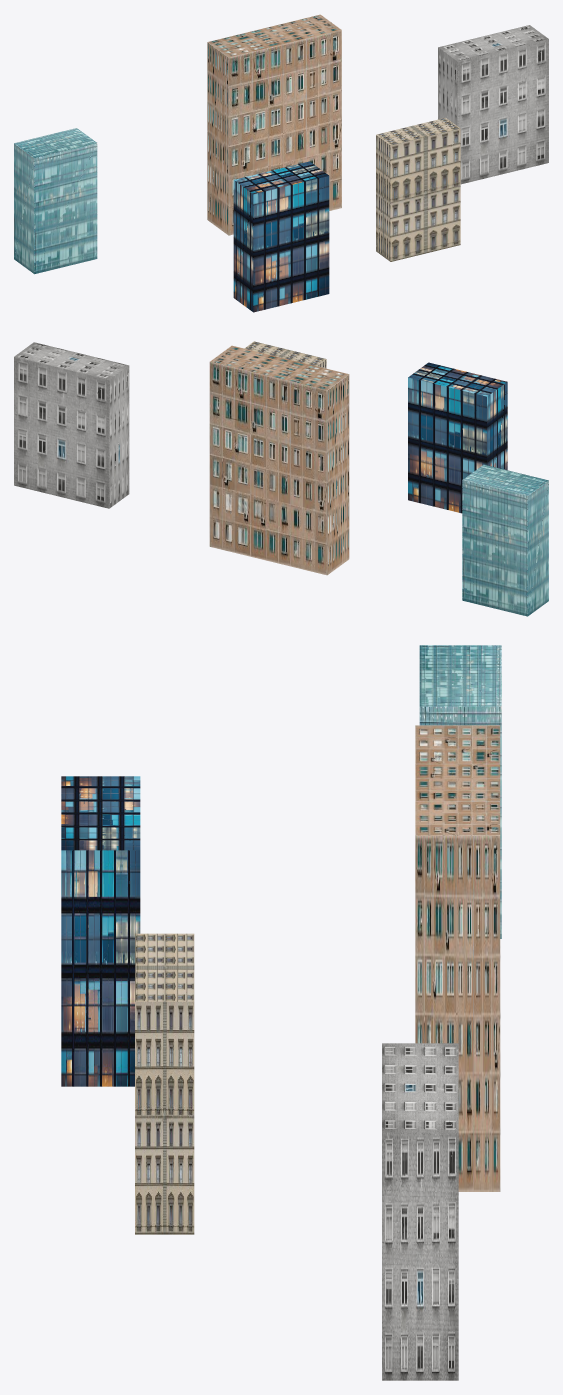
Rendered from buildlings2.gltf.
3 renders of one model, top to bottom at view 1: azimuth 30°, elevation 25°; view 2: azimuth 150°, elevation 25°; view 3: azimuth 270°, elevation 25°, orthographic. The views are drawn at different scales.
Visible parts, largest first — view 1: Box, Box_4, Box_3, Box_1, Box_2; view 2: Box, Box_4, Box_3, Box_1, Box_2; view 3: Box, Box_4, Box_3, Box_2, Box_1.
Part boxes in pixels (left/top/right/bottom): Box: left=207, top=14, right=341, bottom=235; Box_4: left=438, top=25, right=548, bottom=184; Box_3: left=233, top=161, right=329, bottom=312; Box_1: left=14, top=128, right=97, bottom=274; Box_2: left=376, top=117, right=460, bottom=261; Box: left=209, top=345, right=349, bottom=575; Box_4: left=14, top=342, right=129, bottom=508; Box_3: left=408, top=362, right=507, bottom=513; Box_1: left=462, top=464, right=548, bottom=616; Box_2: left=244, top=341, right=326, bottom=368; Box: left=415, top=725, right=500, bottom=1191; Box_4: left=382, top=1043, right=458, bottom=1380; Box_3: left=61, top=776, right=140, bottom=1086; Box_2: left=135, top=933, right=194, bottom=1234; Box_1: left=419, top=645, right=501, bottom=938.
Size of the model in its own units: 28.2 by 9.5 by 10.64.
Materials: 5 (5 with a texture image).
